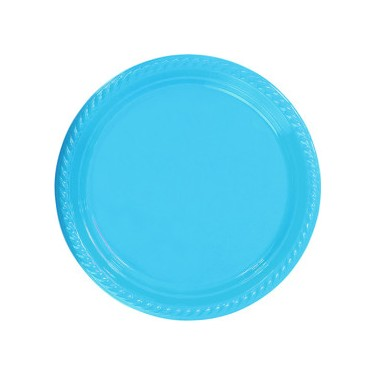havuz: (54, 55, 322, 321)
